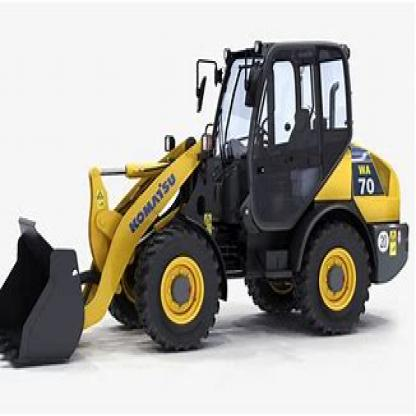bull_dozer/loader/grader: (0, 24, 408, 379)
